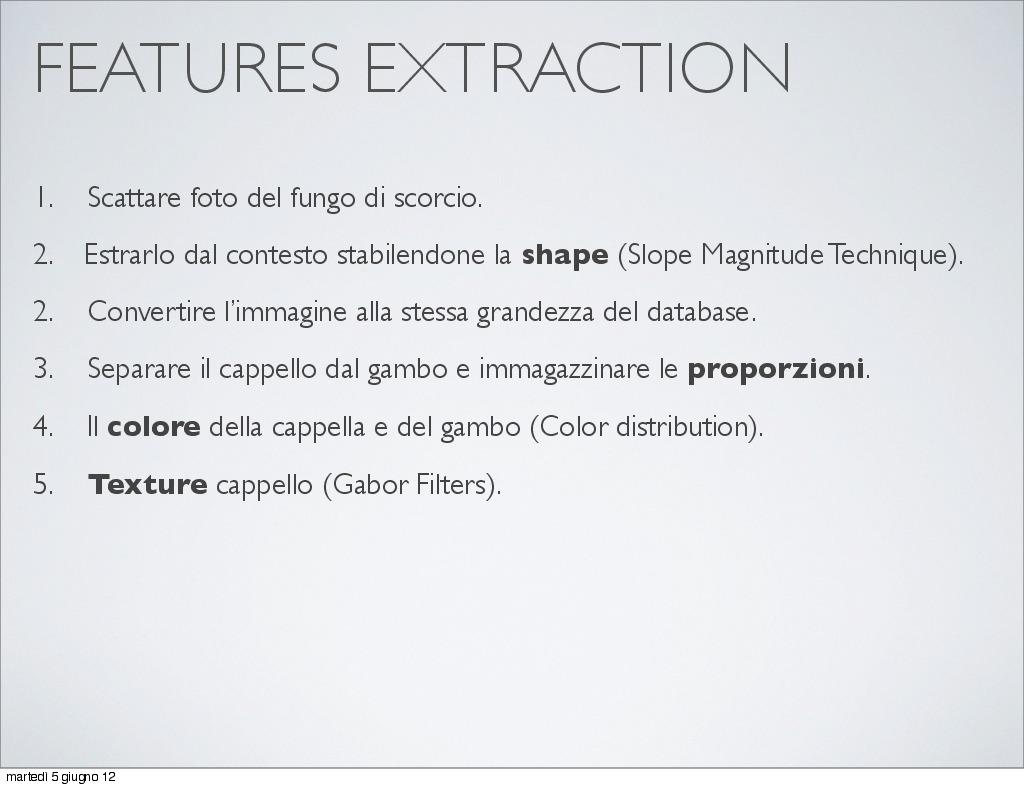paragraph: (19, 159, 991, 548)
title: (17, 25, 813, 117)
